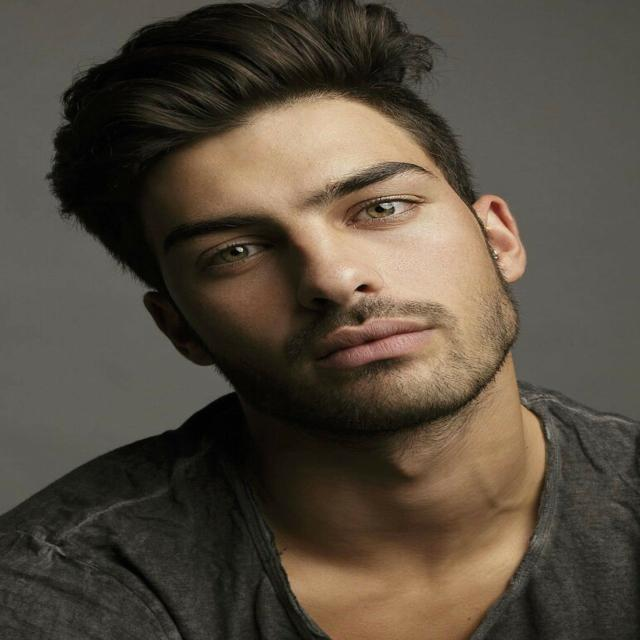front: (160, 140, 525, 400)
